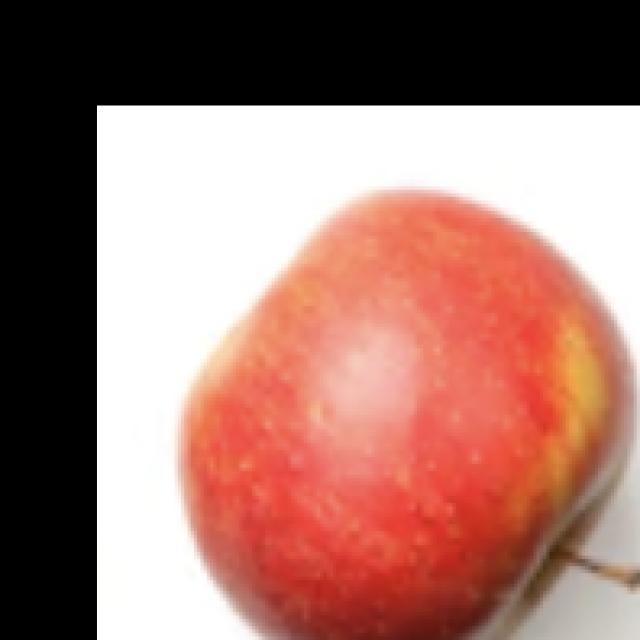Fresh Apple: (171, 201, 640, 640)
